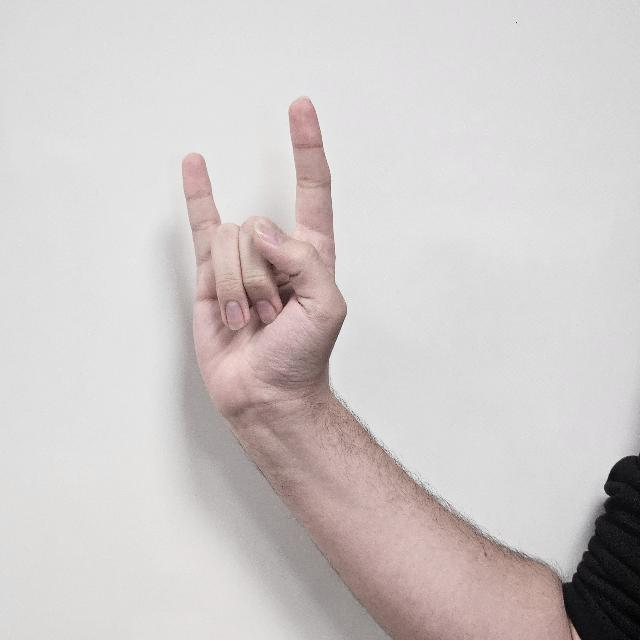L: (168, 98, 348, 412)
